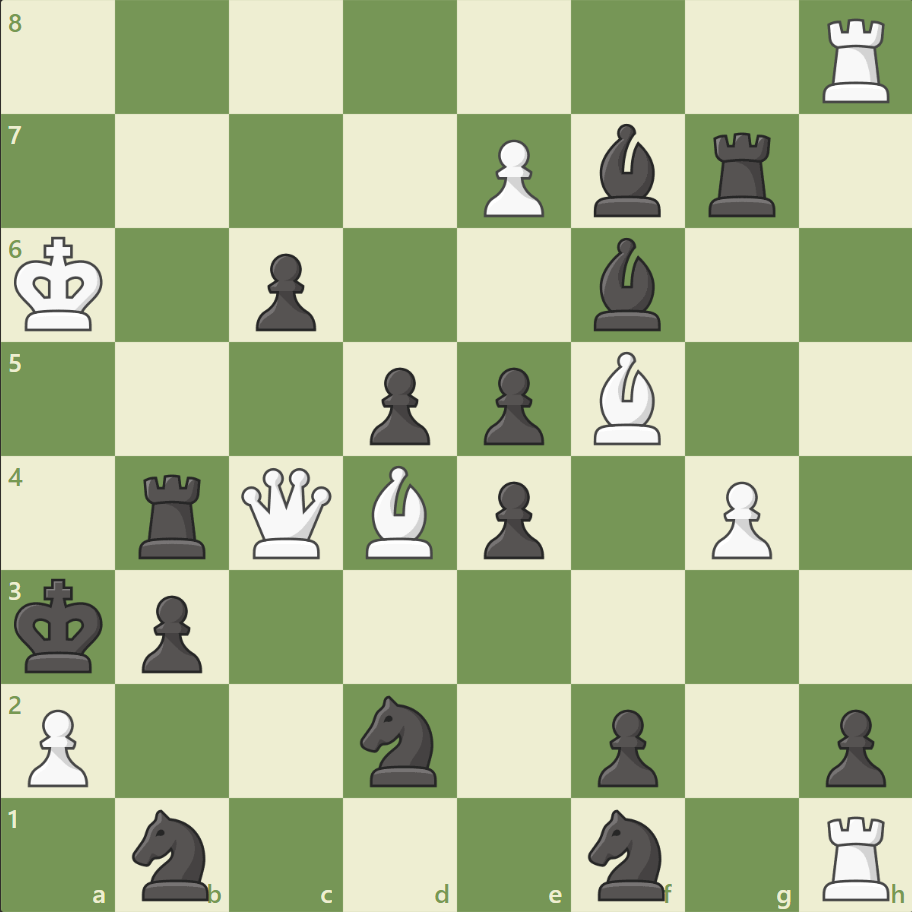B: (358, 460, 442, 563), (585, 347, 669, 449)
K: (11, 231, 111, 339)
P: (474, 132, 549, 223), (701, 473, 776, 564), (20, 700, 95, 791)
Q: (237, 463, 336, 562)
R: (814, 806, 897, 904), (814, 12, 897, 109)
b: (585, 233, 669, 336), (585, 120, 669, 222)
k: (11, 571, 111, 679)
n: (351, 688, 449, 791), (124, 802, 222, 904), (579, 802, 676, 904)
p: (247, 246, 322, 337), (474, 359, 549, 450), (474, 473, 549, 564), (133, 586, 208, 677), (361, 359, 435, 450), (588, 700, 662, 791), (815, 700, 889, 791)
r: (700, 125, 783, 222), (133, 466, 215, 563)
